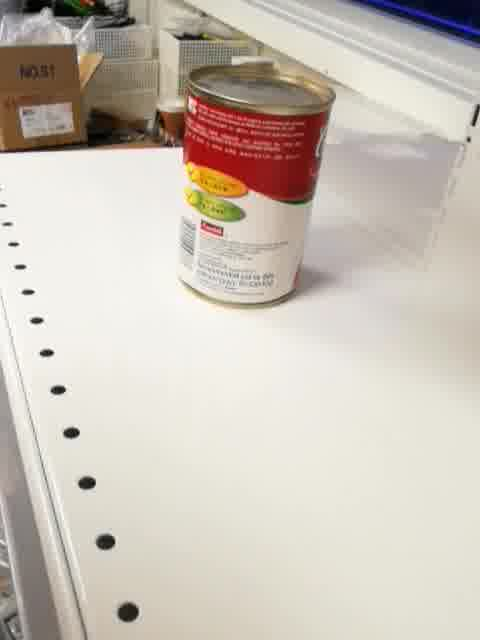tomatosoup: (176, 62, 338, 310)
